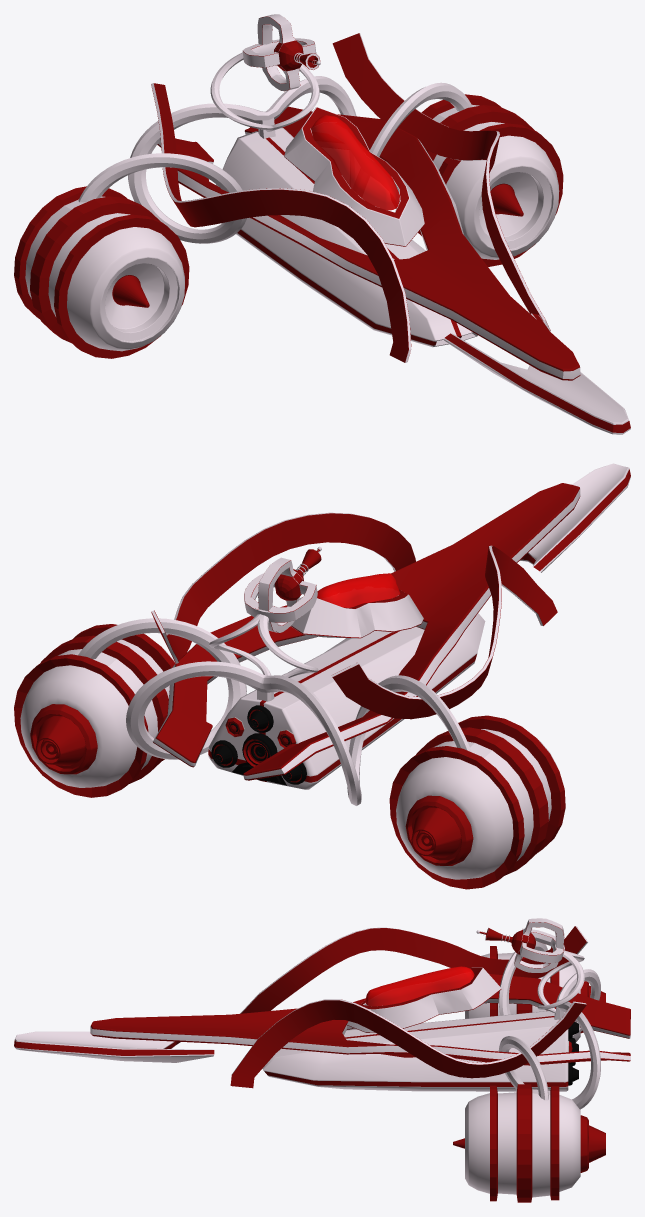
File: DND_Lynessia.fbx
The picture shows the model from 3 angles, top to bottom: view 1: azimuth 30°, elevation 25°; view 2: azimuth 150°, elevation 25°; view 3: azimuth 270°, elevation 25°; orthographic projection. The views are drawn at different scales.
Parts seen in each view (by area): view 1: M1_JetEngineRight, M1_TopPiece, M1_JetEngineLeft, M1_Base, M1_HelixCord, M1_RibbonRight, M1_RibbonLeft, M1_SeatBorder, M1_TopPiece1, M1_SeatGlass, M1_TetherBeam, M1_HelixHook; view 2: M1_TopPiece, M1_JetEngineRight, M1_JetEngineLeft, M1_Base, M1_HelixCord, M1_RibbonLeft, M1_RibbonRight, M1_SeatBorder, M1_TopPiece1, M1_TetherBeam, M1_JetExhaustLeft, M1_JetExhaustRight (+3 smaller); view 3: M1_Base, M1_JetEngineLeft, M1_TopPiece, M1_RibbonLeft, M1_RibbonRight, M1_TopPiece1, M1_HelixCord, M1_SeatBorder, M1_TetherBeam, M1_SeatGlass, M1_JetEngineRight, M1_JetExhaustLeft (+1 smaller).
Boxes of the visible parts, left/top/right/bottom form: M1_JetEngineRight: left=14, top=186, right=189, bottom=358; M1_TopPiece: left=157, top=106, right=580, bottom=380; M1_JetEngineLeft: left=395, top=94, right=563, bottom=266; M1_Base: left=215, top=127, right=477, bottom=347; M1_HelixCord: left=78, top=76, right=472, bottom=243; M1_RibbonRight: left=151, top=83, right=411, bottom=362; M1_RibbonLeft: left=332, top=33, right=550, bottom=331; M1_SeatBorder: left=284, top=107, right=424, bottom=246; M1_TopPiece1: left=443, top=313, right=630, bottom=434; M1_SeatGlass: left=311, top=115, right=399, bottom=210; M1_TetherBeam: left=242, top=14, right=320, bottom=91; M1_HelixHook: left=210, top=52, right=319, bottom=131; M1_TopPiece: left=153, top=483, right=580, bottom=780; M1_JetEngineRight: left=389, top=715, right=565, bottom=889; M1_JetEngineLeft: left=14, top=624, right=175, bottom=797; M1_Base: left=208, top=613, right=485, bottom=789; M1_HelixCord: left=78, top=618, right=471, bottom=805; M1_RibbonLeft: left=151, top=512, right=415, bottom=663; M1_RibbonRight: left=331, top=545, right=557, bottom=719; M1_SeatBorder: left=291, top=589, right=423, bottom=638; M1_TopPiece1: left=520, top=463, right=630, bottom=572; M1_TetherBeam: left=244, top=546, right=321, bottom=633; M1_JetExhaustLeft: left=30, top=704, right=97, bottom=774; M1_JetExhaustRight: left=405, top=795, right=473, bottom=865; M1_Base: left=262, top=1011, right=568, bottom=1091; M1_JetEngineLeft: left=453, top=1084, right=580, bottom=1202; M1_TopPiece: left=90, top=974, right=630, bottom=1065; M1_RibbonLeft: left=230, top=999, right=586, bottom=1088; M1_RibbonRight: left=240, top=926, right=587, bottom=1013; M1_TopPiece1: left=14, top=1031, right=214, bottom=1062; M1_HelixCord: left=498, top=941, right=600, bottom=1109; M1_SeatBorder: left=346, top=967, right=501, bottom=1032; M1_TetherBeam: left=476, top=918, right=564, bottom=973; M1_SeatGlass: left=366, top=966, right=474, bottom=1006; M1_JetEngineRight: left=465, top=946, right=580, bottom=1042; M1_JetExhaustLeft: left=580, top=1115, right=605, bottom=1172.
Size of the model in its own units: 10.99 by 5.59 by 15.09.
